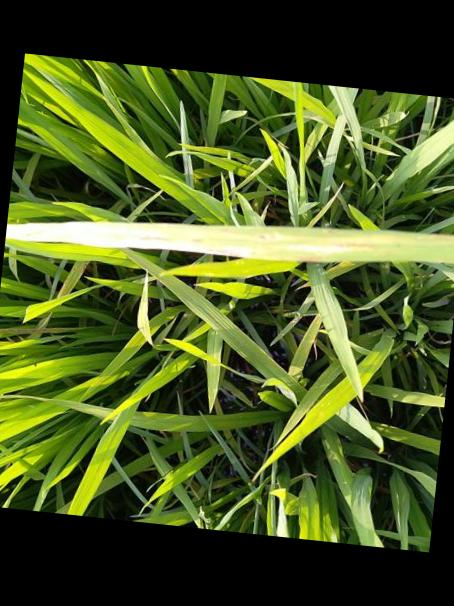Leaf Streak: (5, 221, 454, 262)
